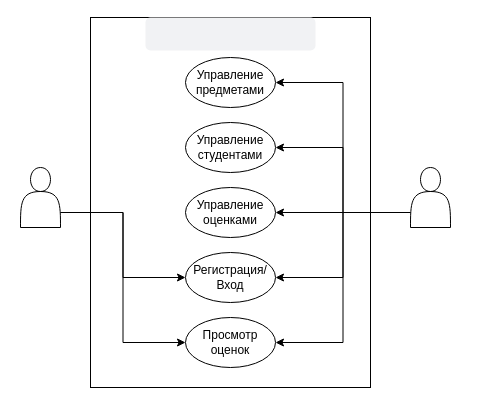
The diagram is 490 pixels wide and 405 high, and some of its shapes have lost their labels. Here are the shapes that lost their labels. From the top down, the centre of each, then its label:
point (230, 33): StudentPerfomanceTracker
point (40, 197): Студент
point (430, 197): Преподаватель
